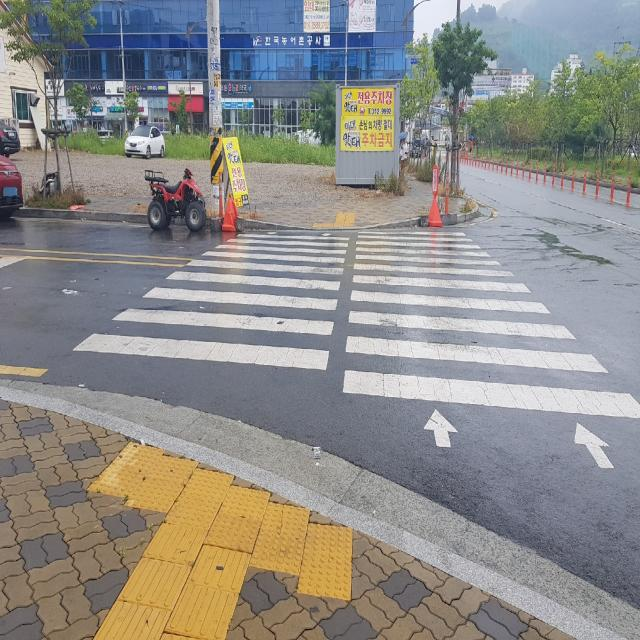횡단보도: (73, 232, 640, 470)
